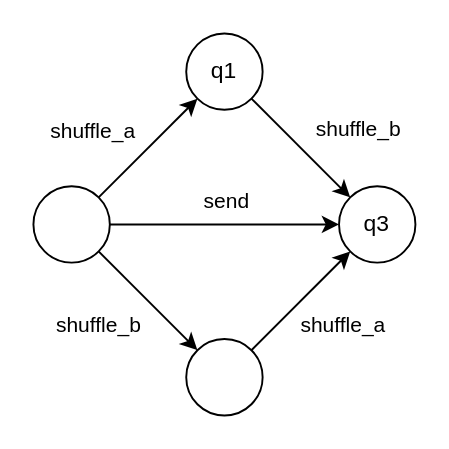
Some shapes in this 449 by 449 pixel diagram are drawn without their labels. The shapes that lost their labels are listed below. From the top down, each one's centre as x and y in pixels, then its label:
At point (71, 223): "q0".
At point (223, 376): "q2".
